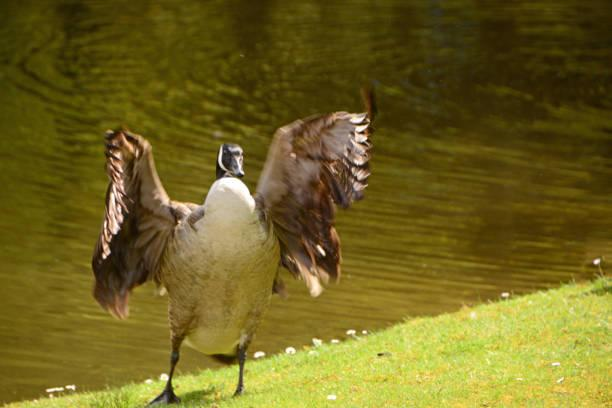Canadian-Goose: (88, 94, 382, 408)
